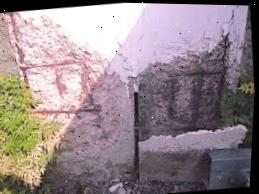exposed_rebar: (132, 77, 139, 170)
spalling: (1, 12, 235, 159)
